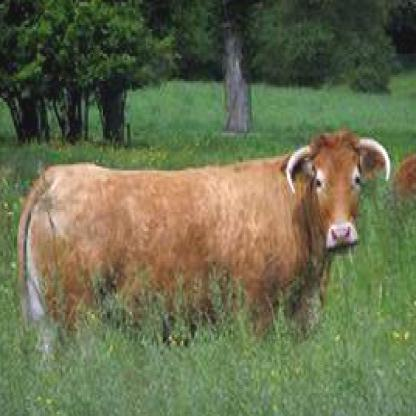cow: (13, 125, 391, 333)
